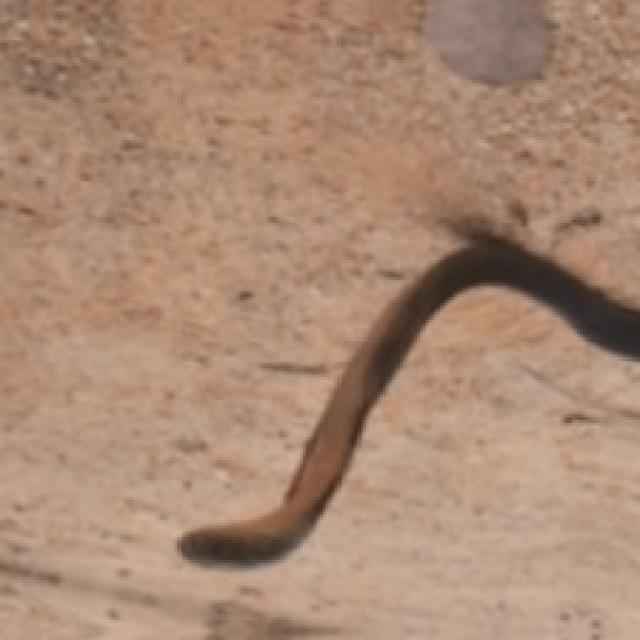king cobra: (177, 231, 637, 563)
